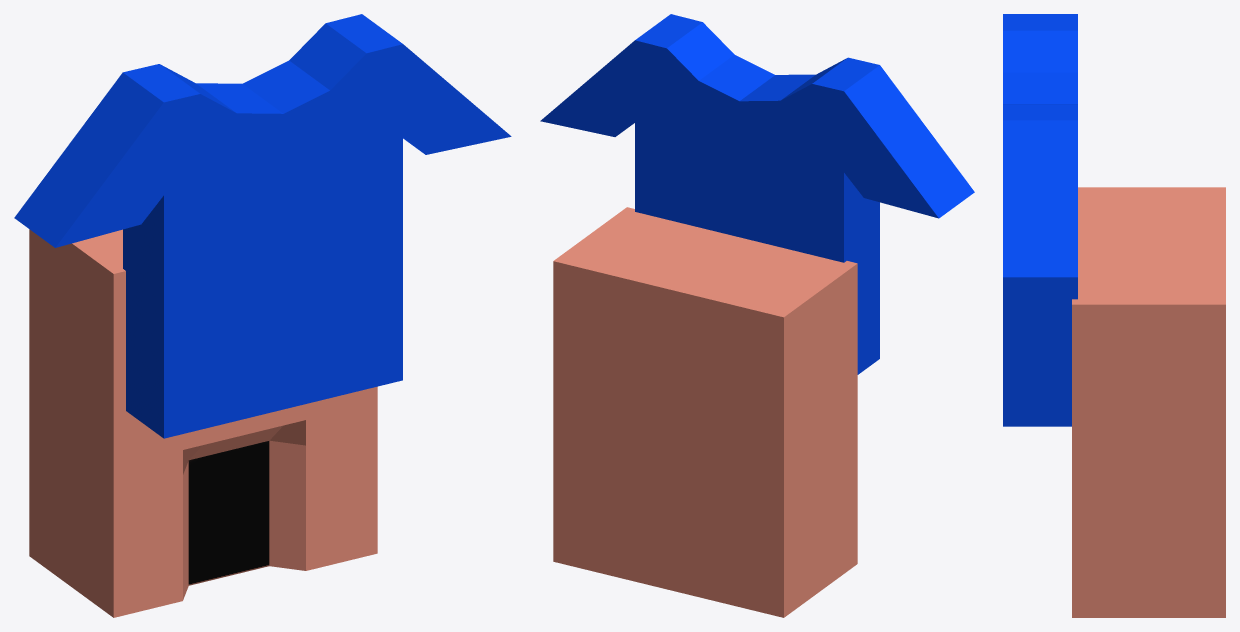
File: Loja.fbx
3 views of the same model, side by side, from view 1: azimuth 30°, elevation 25°; view 2: azimuth 150°, elevation 25°; view 3: azimuth 270°, elevation 25° (orthographic). The views are drawn at different scales.
Parts seen in each view (by area): view 1: Cube.002, Cube.003; view 2: Cube.003, Cube.002; view 3: Cube.003, Cube.002.
Boxes of the visible parts, box(x1,y1,x2,y2) form: Cube.002: box(14, 14, 511, 438); Cube.003: box(29, 229, 377, 617); Cube.003: box(553, 207, 857, 617); Cube.002: box(540, 14, 974, 374); Cube.003: box(1072, 187, 1225, 617); Cube.002: box(1003, 14, 1077, 426).
Bounding box in the file's own units: 985 × 1114 × 457.
